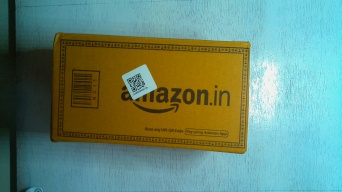a: (52, 31, 250, 156)
